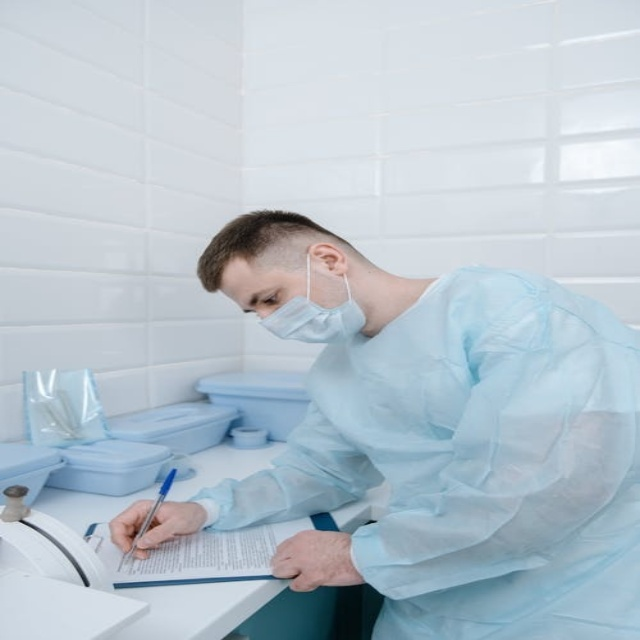Guantes: (101, 492, 219, 567), (268, 522, 376, 603)
Mascara: (256, 253, 362, 343)
Sin_gafas: (260, 293, 279, 307), (243, 305, 257, 315)
